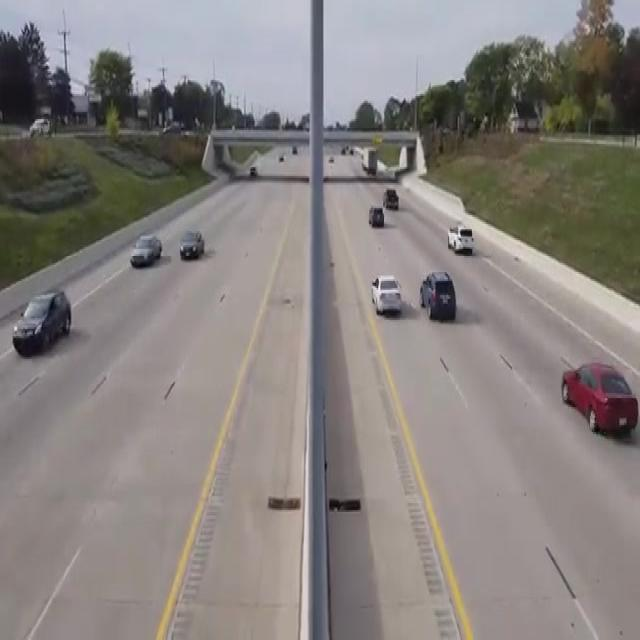car: (558, 351, 640, 447), (11, 290, 74, 355), (420, 268, 461, 325), (369, 273, 402, 325), (133, 231, 166, 274), (444, 220, 478, 260), (176, 229, 211, 267), (366, 200, 391, 235), (243, 161, 263, 184)
truck: (380, 177, 405, 218), (360, 152, 382, 188)
